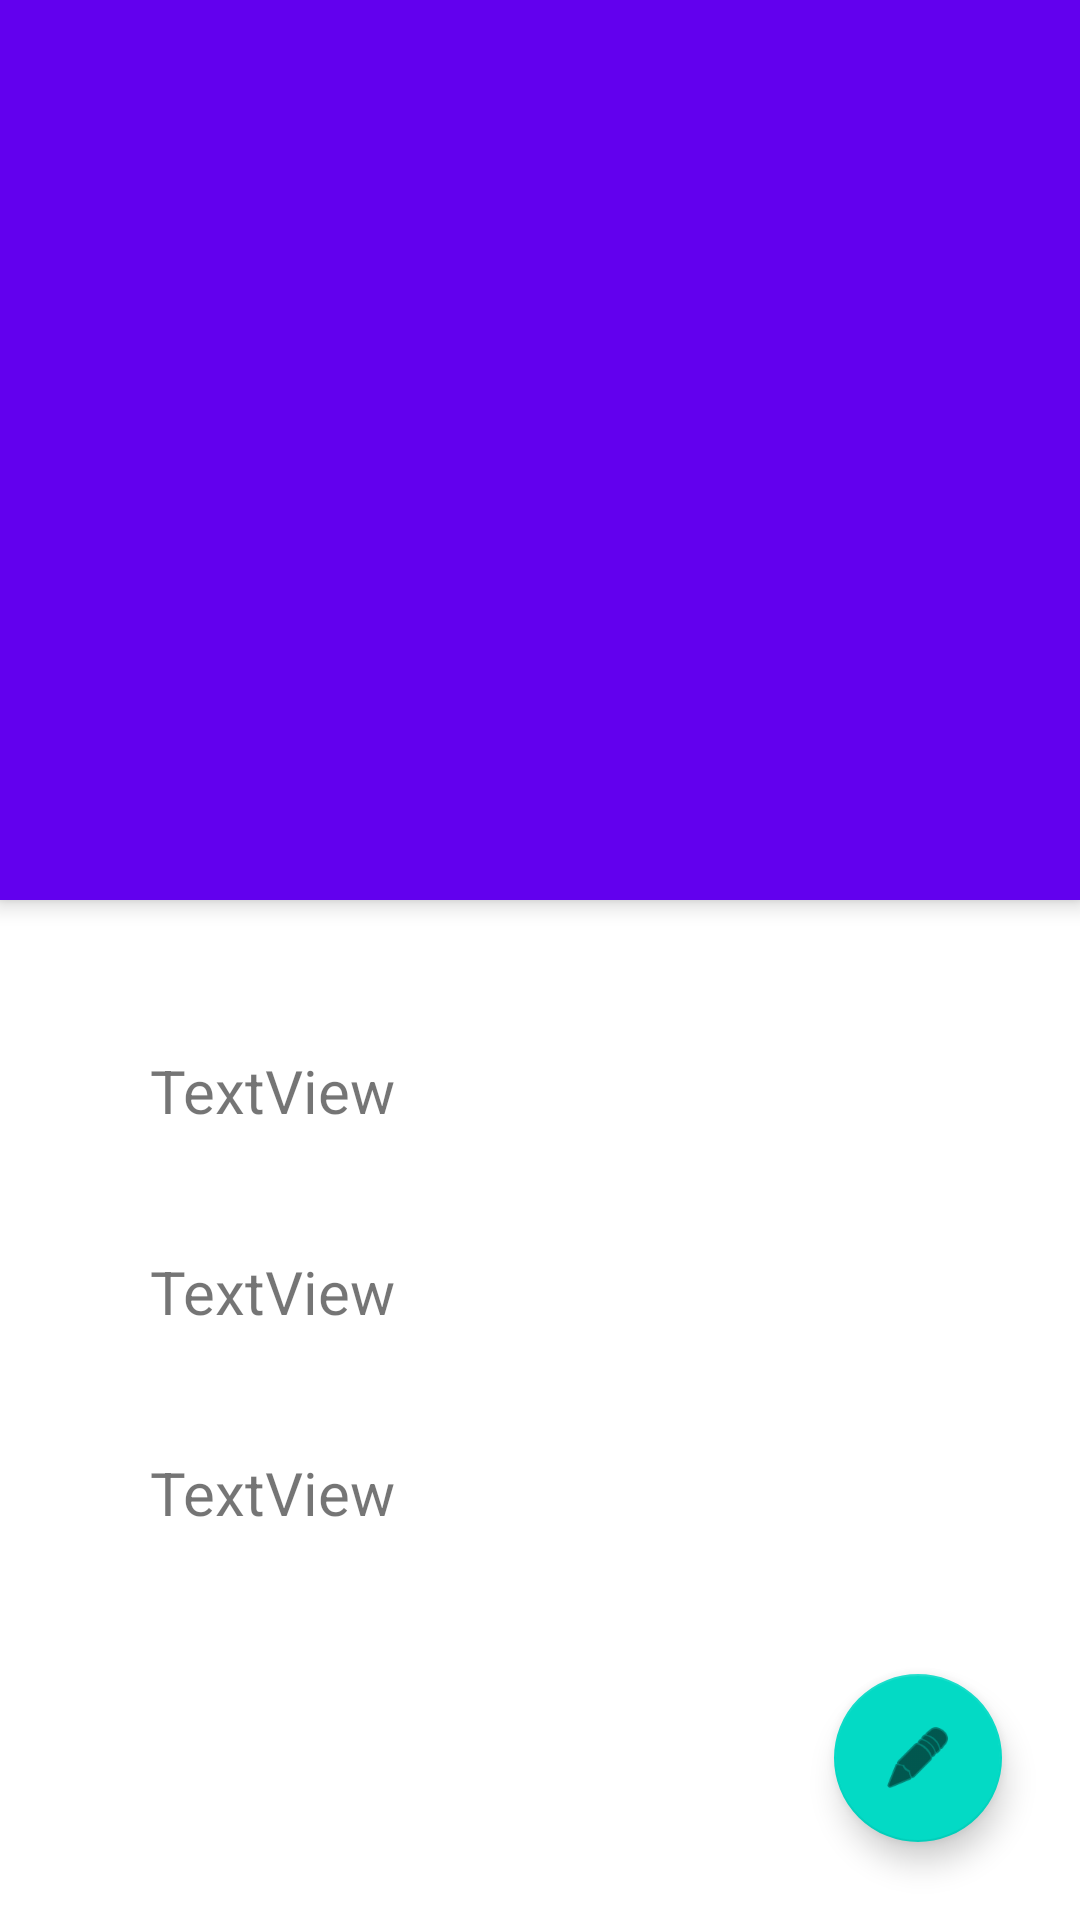

Icon bounding boxes for this 1080px×1920px phone screenshot, format {"x1": x1, "y1": y1, "x2": x2, "y2": y2}:
edit: {"x1": 834, "y1": 1674, "x2": 1002, "y2": 1842}
